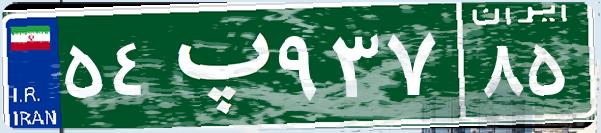3: (330, 28, 385, 110)
4: (110, 28, 158, 105)
5: (57, 26, 110, 107), (525, 38, 570, 115)
7: (385, 28, 445, 110)
8: (475, 38, 525, 113)
9: (273, 28, 330, 110)
پ: (158, 15, 273, 115)
